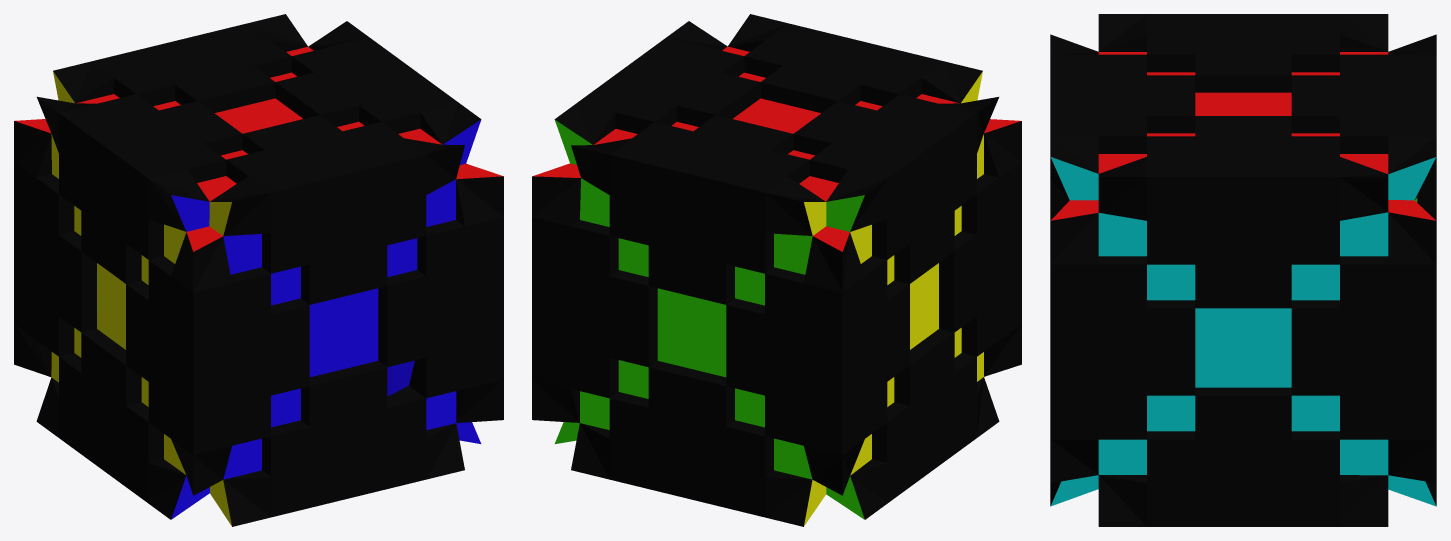
File: cubeB.glb
3 views of the same model, side by side, from view 1: azimuth 30°, elevation 25°; view 2: azimuth 150°, elevation 25°; view 3: azimuth 270°, elevation 25° (orthographic). The views are drawn at different scales.
Parts seen in each view (by area): view 1: Cube; view 2: Cube; view 3: Cube.
Part boxes in pixels (left/top/right/bottom): Cube: left=14, top=14, right=503, bottom=526; Cube: left=532, top=14, right=1021, bottom=526; Cube: left=1050, top=14, right=1436, bottom=526.
Bounding box in the file's own units: 1 × 1 × 1.
